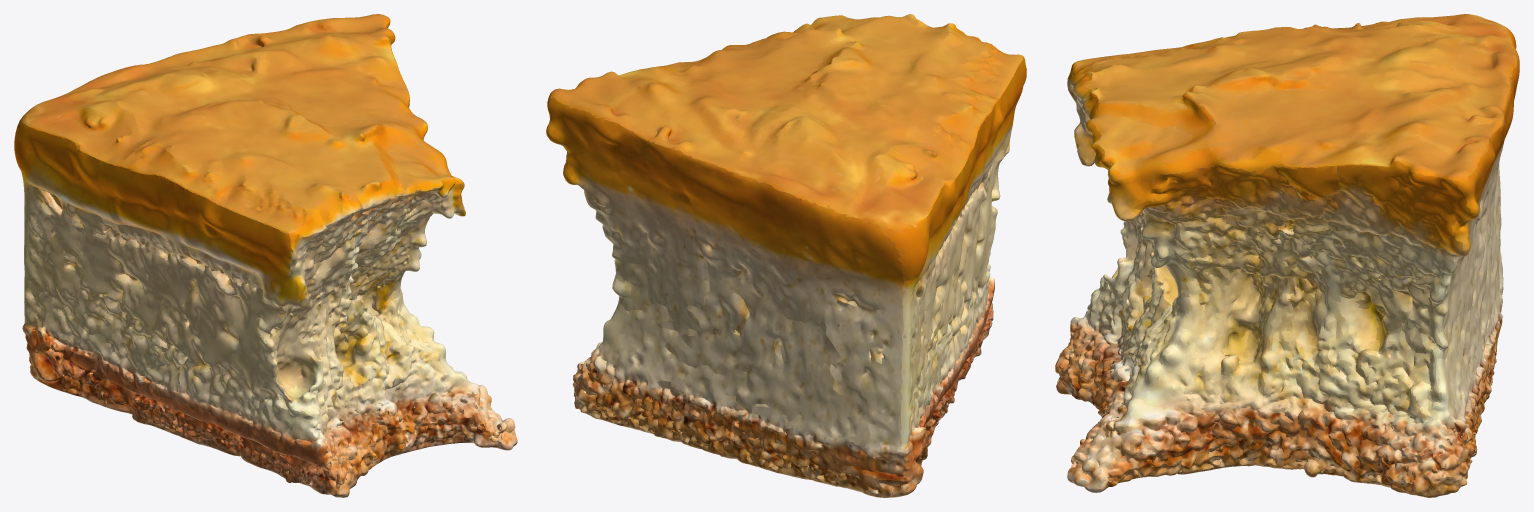
The picture shows the model from 3 angles, left to right: view 1: azimuth 30°, elevation 25°; view 2: azimuth 150°, elevation 25°; view 3: azimuth 270°, elevation 25°; orthographic projection. The views are drawn at different scales.
Parts seen in each view (by area): view 1: FoodRedoV2Alignment-0; view 2: FoodRedoV2Alignment-0; view 3: FoodRedoV2Alignment-0.
Part boxes in pixels (box(x1,y1,x2,y2)): FoodRedoV2Alignment-0: box(14, 14, 517, 497); FoodRedoV2Alignment-0: box(546, 14, 1026, 497); FoodRedoV2Alignment-0: box(1055, 14, 1519, 497).
Bounding box in the file's own units: 0.089 × 0.074 × 0.0889.
1 material, 1 textured.
